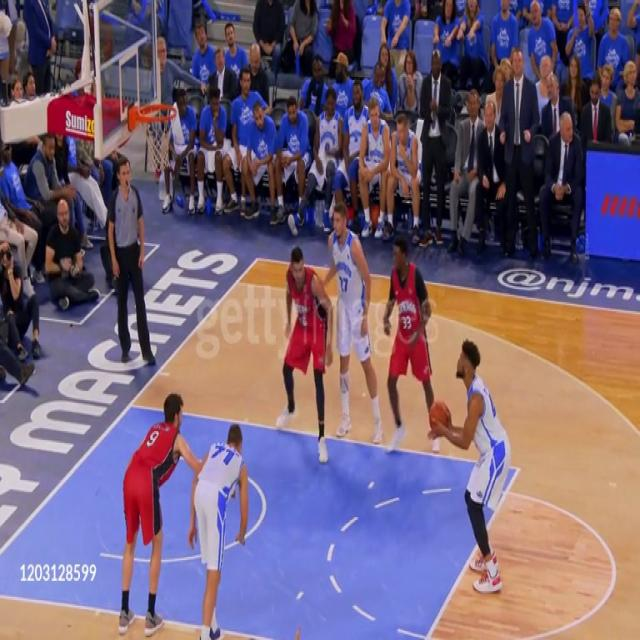ball: (429, 400, 452, 443)
